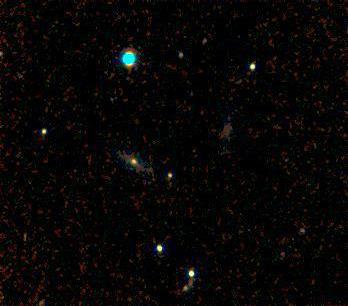star: (178, 261, 208, 291)
